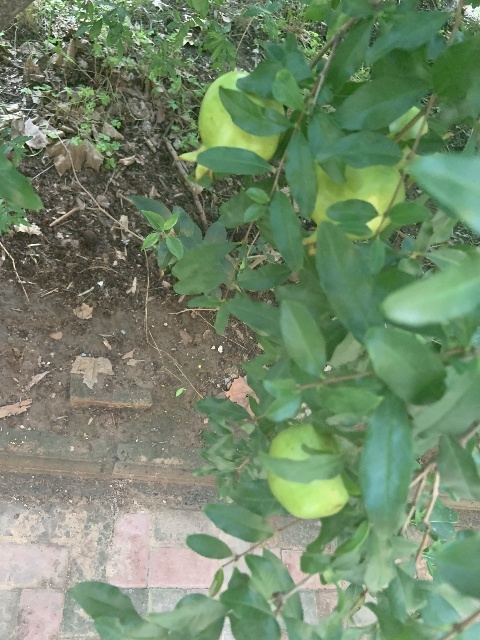mid-growth: (179, 69, 284, 195), (302, 165, 405, 255), (266, 423, 356, 519), (385, 106, 454, 190)
